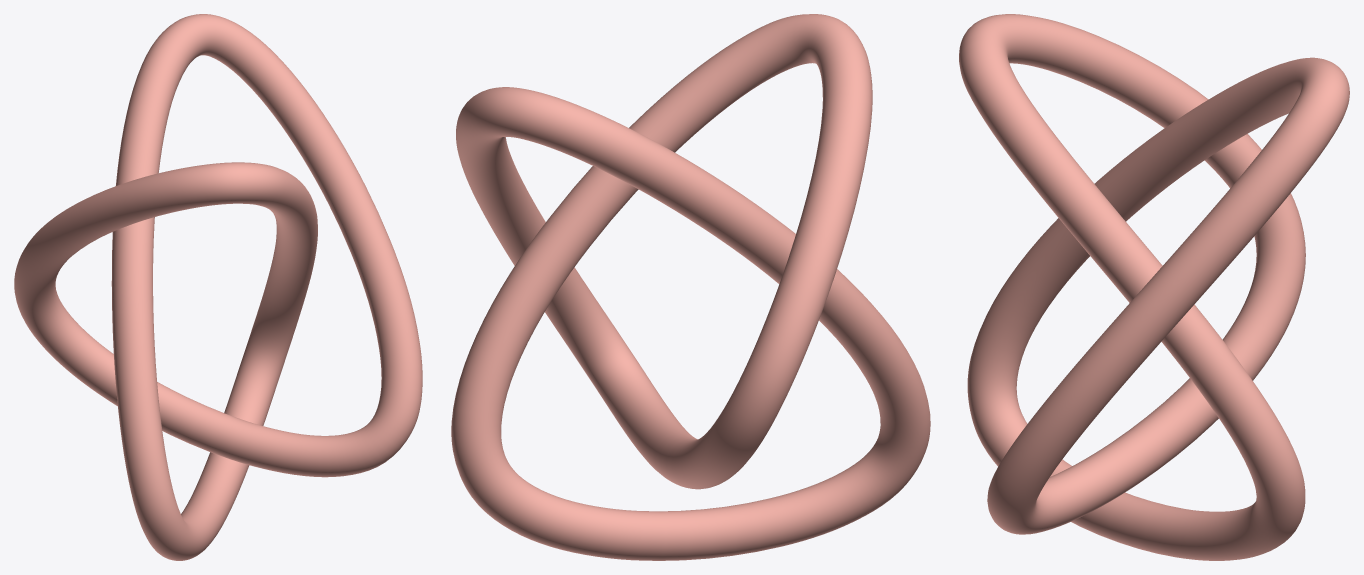
Rendered from Squiggle_001_Microscopic.glb.
3 renders of one model, left to right at view 1: azimuth 30°, elevation 25°; view 2: azimuth 150°, elevation 25°; view 3: azimuth 270°, elevation 25°, orthographic. The views are drawn at different scales.
Bounding box in the file's own units: 0.0148 × 0.0193 × 0.0133.
